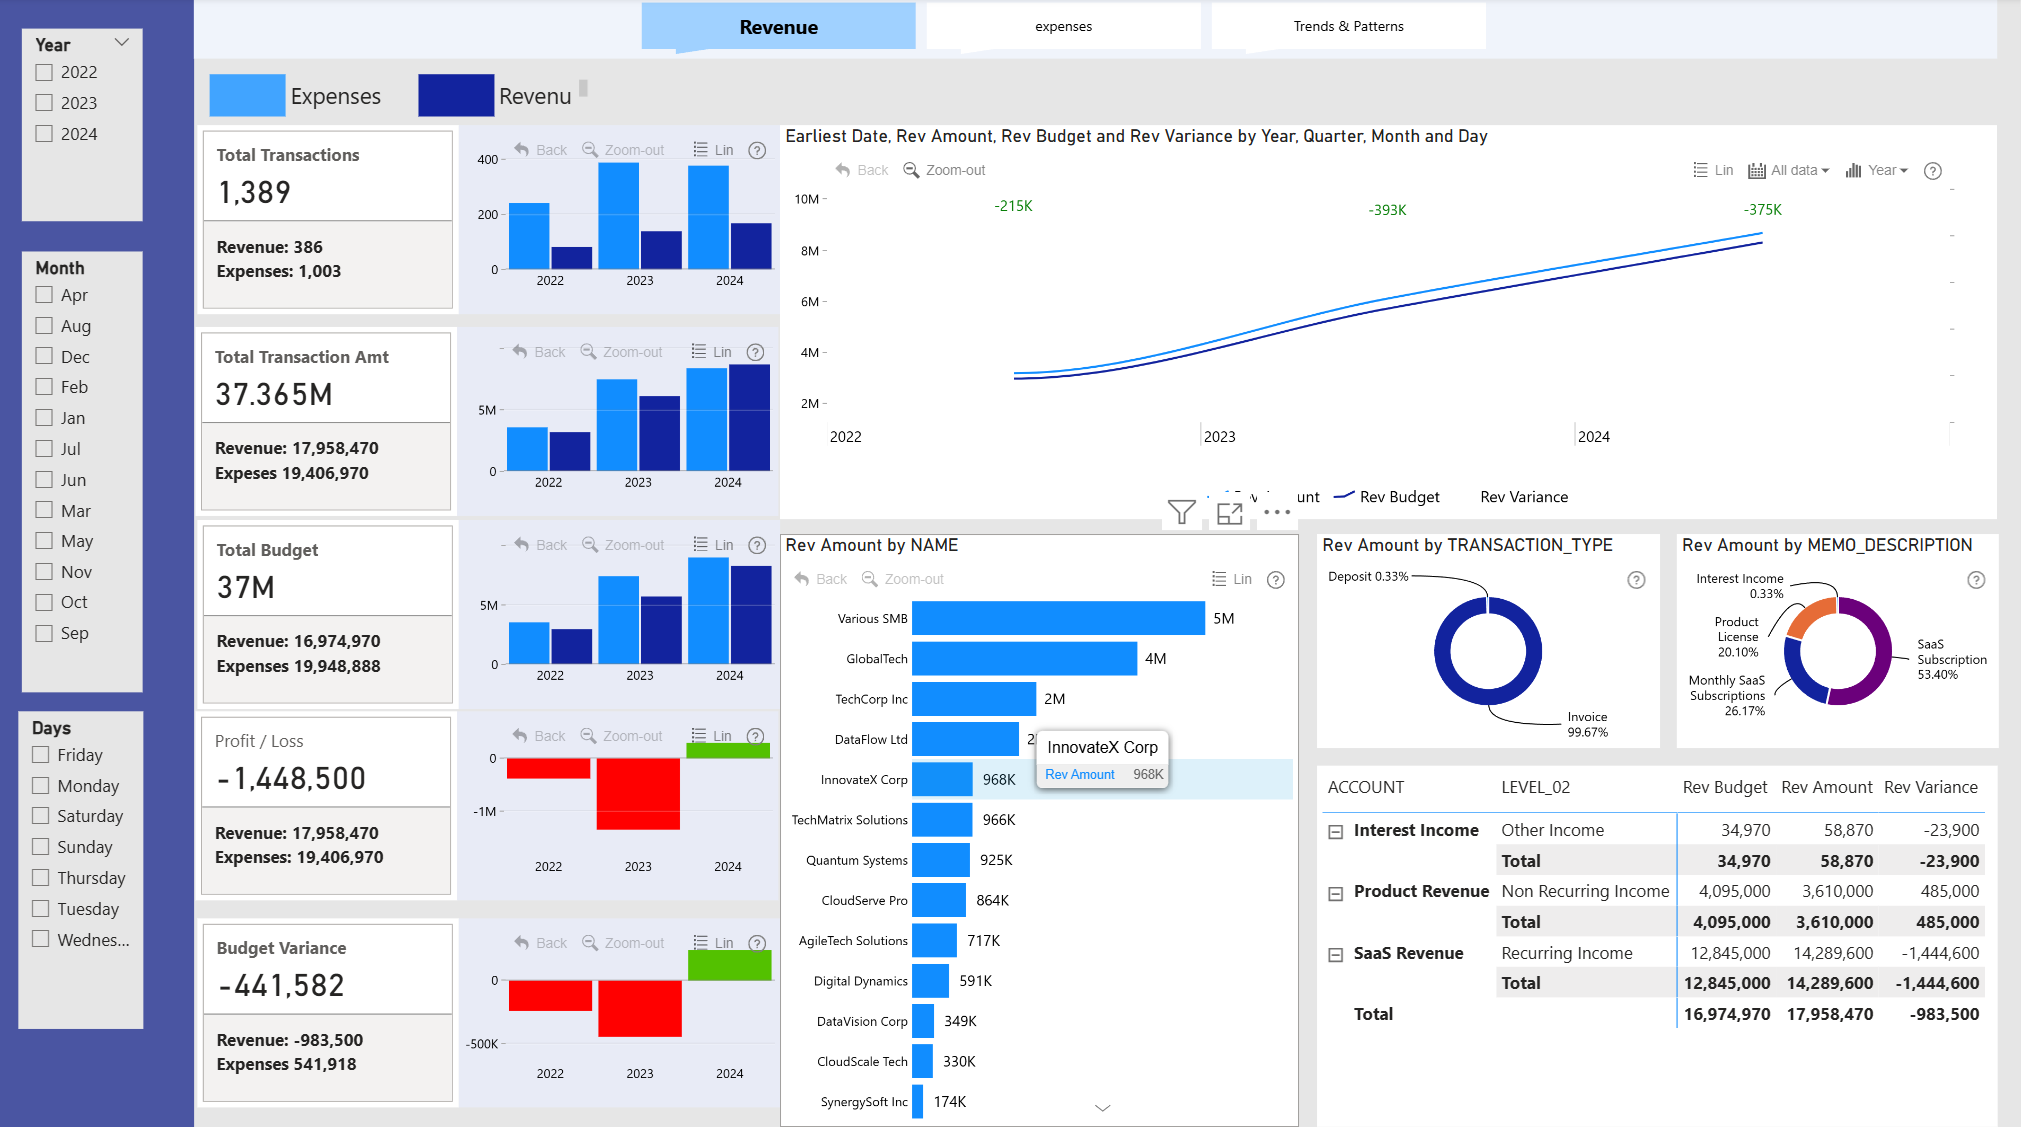

This screenshot's page, from the dashboard's own definition file:
{"tool":"powerbi","page":{"name":"Revenue","canvas":[1920,1080],"ordinal":0},"visuals":[{"type":"shape","box":[9.9,0,187.4,1079.4],"z":0},{"type":"shape","box":[196.7,0,1701.7,58.3],"z":1000},{"type":"cardVisual","fields":{"Data":["calculations.Total Transactions"]},"box":[200,121.3,246.7,178.3],"z":2000},{"type":"ZoomChartsFacetChartPaidE77E4ED357DC402ABA005987437CF500","fields":{"Category":["Calendar.Year"],"Legend":["Fact_TRANSACTION.REVENUE/EXPENSES"],"Values1":["calculations.Total Transactions"]},"box":[446.7,121.3,303.3,178.3],"z":3000},{"type":"cardVisual","fields":{"Data":["calculations.Total Transaction Amt"]},"box":[199.2,310.7,246.7,178.3],"z":4000},{"type":"ZoomChartsFacetChartPaidE77E4ED357DC402ABA005987437CF500","fields":{"Category":["Calendar.Year"],"Legend":["Fact_TRANSACTION.REVENUE/EXPENSES"],"Values1":["calculations.Total Transaction Amt"]},"box":[445.8,310.7,303.3,178.3],"z":5000},{"type":"cardVisual","fields":{"Data":["calculations.Total Budget"]},"box":[199.7,492.6,246.7,178.3],"z":6000},{"type":"ZoomChartsFacetChartPaidE77E4ED357DC402ABA005987437CF500","fields":{"Category":["Calendar.Year"],"Legend":["Dim_BUDGET.REVENUE/EXPENSES"],"Values1":["calculations.Total Budget"]},"box":[446.3,492.6,303.3,178.3],"z":7000},{"type":"cardVisual","fields":{"Data":["calculations.Profit / Loss"]},"box":[198.7,674,246.7,178.3],"z":8000},{"type":"ZoomChartsFacetChartPaidE77E4ED357DC402ABA005987437CF500","fields":{"Category":["Calendar.Year"],"Values1":["calculations.Profit / Loss"]},"box":[445.4,674,303.3,178.3],"z":9000},{"type":"cardVisual","fields":{"Data":["calculations.Budget Variance"]},"box":[200.6,868.7,246.7,178.3],"z":10000},{"type":"ZoomChartsFacetChartPaidE77E4ED357DC402ABA005987437CF500","fields":{"Category":["Calendar.Year"],"Values1":["calculations.Budget Variance"]},"box":[447.3,868.7,303.3,178.3],"z":11000},{"type":"shape","box":[211.7,73.3,71.7,40],"z":12000},{"type":"shape","box":[408.3,73.3,71.7,40],"z":13000},{"type":"textbox","box":[480,73.3,93.3,40],"z":14000},{"type":"textbox","box":[283.3,73.3,105,38.3],"z":15000},{"type":"ZoomChartsDrillDownTimelinePro7F6C01BA1C534E9AB4A6BCCB44F591","fields":{"Category":["Calendar.Date.Variation.Date Hierarchy.Year","Calendar.Date.Variation.Date Hierarchy.Quarter","Calendar.Date.Variation.Date Hierarchy.Month","Calendar.Date.Variation.Date Hierarchy.Day"],"DateValue":["Min(Calendar.Date)"],"Values1":["calculations.Rev Amount"],"Values2":["calculations.Rev Budget"],"Values3":["calculations.Rev Variance"]},"box":[750,121.7,1148.3,371.7],"z":16000},{"type":"ZoomChartsPieChartPaidE77E4ED357DC402ABA005987437CF500","fields":{"Category":["Fact_TRANSACTION.TRANSACTION_TYPE"],"Values":["calculations.Rev Amount"]},"box":[1257.5,506.9,323.1,201.2],"z":17000},{"type":"ZoomChartsPieChartPaidE77E4ED357DC402ABA005987437CF500","fields":{"Category":["Fact_TRANSACTION.MEMO_DESCRIPTION"],"Values":["calculations.Rev Amount"]},"box":[1596.1,506.9,303.7,201.2],"z":18000},{"type":"ZoomChartsDrillDownComboBarProE77E4ED357DC402ABA005987437CF8","fields":{"Category":["Fact_TRANSACTION.NAME"],"Values1":["calculations.Rev Amount"]},"box":[750.6,506.9,489.5,559.1],"z":19000},{"type":"pivotTable","fields":{"Rows":["Dim_ACCOUNTS.ACCOUNT","Dim_ACCOUNTS.LEVEL_02"],"Values":["calculations.Rev Budget","calculations.Rev Amount","calculations.Rev Variance"]},"box":[1257.5,725.5,642.3,340.5],"z":20000},{"type":"pageNavigator","box":[619.3,5,799.8,49.7],"z":21000},{"type":"slicer","fields":{"Values":["Calendar.Year"]},"box":[34.8,29,114.1,181.9],"z":22000},{"type":"slicer","fields":{"Values":["Calendar.Month Short"]},"box":[34.8,239.9,114.1,416],"z":23000},{"type":"slicer","fields":{"Values":["Calendar.Week Day Name"]},"box":[31,673.3,118,299.9],"z":24000}]}

Visuals, with their boxes in screenshot pixels (x1, y1, x2, y2), scaled from the page's 1920x1080 canvas onto the 2021x1127 screenshot:
shape: x1=10 y1=0 x2=208 y2=1126
shape: x1=207 y1=0 x2=1998 y2=61
cardVisual - calculations.Total Transactions: x1=211 y1=127 x2=470 y2=313
ZoomChartsFacetChartPaidE77E4ED357DC402ABA005987437CF500 - Calendar.Year x Fact_TRANSACTION.REVENUE/EXPENSES: x1=470 y1=127 x2=789 y2=313
cardVisual - calculations.Total Transaction Amt: x1=210 y1=324 x2=469 y2=510
ZoomChartsFacetChartPaidE77E4ED357DC402ABA005987437CF500 - Calendar.Year x Fact_TRANSACTION.REVENUE/EXPENSES: x1=469 y1=324 x2=789 y2=510
cardVisual - calculations.Total Budget: x1=210 y1=514 x2=470 y2=700
ZoomChartsFacetChartPaidE77E4ED357DC402ABA005987437CF500 - Calendar.Year x Dim_BUDGET.REVENUE/EXPENSES: x1=470 y1=514 x2=789 y2=700
cardVisual - calculations.Profit / Loss: x1=209 y1=703 x2=469 y2=889
ZoomChartsFacetChartPaidE77E4ED357DC402ABA005987437CF500 - Calendar.Year x calculations.Profit / Loss: x1=469 y1=703 x2=788 y2=889
cardVisual - calculations.Budget Variance: x1=211 y1=907 x2=471 y2=1093
ZoomChartsFacetChartPaidE77E4ED357DC402ABA005987437CF500 - Calendar.Year x calculations.Budget Variance: x1=471 y1=907 x2=790 y2=1093
shape: x1=223 y1=76 x2=298 y2=118
shape: x1=430 y1=76 x2=505 y2=118
textbox: x1=505 y1=76 x2=603 y2=118
textbox: x1=298 y1=76 x2=409 y2=116
ZoomChartsDrillDownTimelinePro7F6C01BA1C534E9AB4A6BCCB44F591 - Calendar.Date.Variation.Date Hierarchy.Year x Calendar.Date.Variation.Date Hierarchy.Quarter: x1=789 y1=127 x2=1998 y2=515
ZoomChartsPieChartPaidE77E4ED357DC402ABA005987437CF500 - Fact_TRANSACTION.TRANSACTION_TYPE x calculations.Rev Amount: x1=1324 y1=529 x2=1664 y2=739
ZoomChartsPieChartPaidE77E4ED357DC402ABA005987437CF500 - Fact_TRANSACTION.MEMO_DESCRIPTION x calculations.Rev Amount: x1=1680 y1=529 x2=2000 y2=739
ZoomChartsDrillDownComboBarProE77E4ED357DC402ABA005987437CF8 - Fact_TRANSACTION.NAME x calculations.Rev Amount: x1=790 y1=529 x2=1305 y2=1112
pivotTable - Dim_ACCOUNTS.ACCOUNT x Dim_ACCOUNTS.LEVEL_02: x1=1324 y1=757 x2=2000 y2=1112
pageNavigator: x1=652 y1=5 x2=1494 y2=57
slicer - Calendar.Year: x1=37 y1=30 x2=157 y2=220
slicer - Calendar.Month Short: x1=37 y1=250 x2=157 y2=684
slicer - Calendar.Week Day Name: x1=33 y1=703 x2=157 y2=1016
